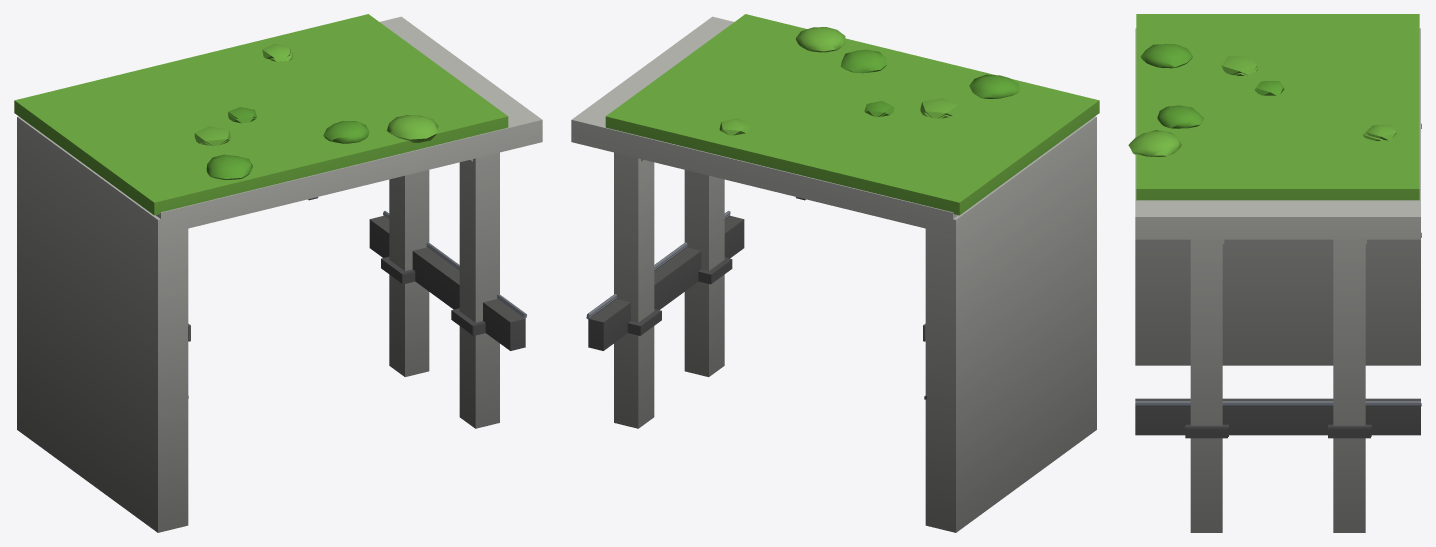
The model's file is Gallery_Module.fbx.
The picture shows the model from 3 angles, left to right: view 1: azimuth 30°, elevation 25°; view 2: azimuth 150°, elevation 25°; view 3: azimuth 270°, elevation 25°; orthographic projection.
Visible parts, largest first — view 1: Gallery_Module_LOD0; view 2: Gallery_Module_LOD0; view 3: Gallery_Module_LOD0.
Boxes of the visible parts, x1,y1,x2,y2 form: Gallery_Module_LOD0: (14,14,542,532); Gallery_Module_LOD0: (571,14,1099,532); Gallery_Module_LOD0: (1128,14,1421,532).
Size of what is drawn, in the model's own units: 12.7 by 10.7 by 8.21.
Materials: 1 (1 with a texture image).
